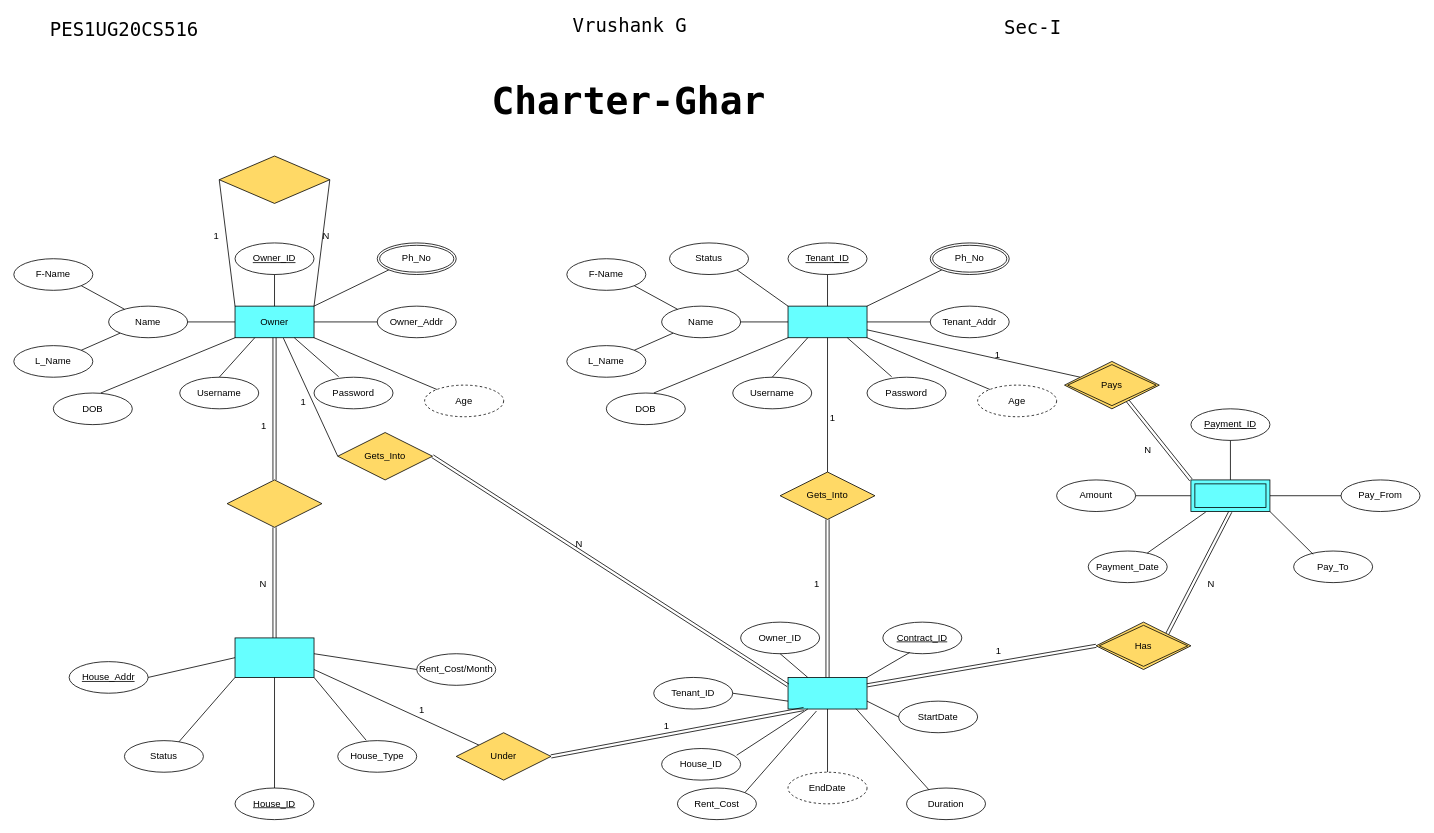
The diagram is 1434 pixels wide and 833 high, and some of its shapes have lost their labels. The centre of each missing label's shape, as x and y in pixels:
Agents: point 274,179
Contract: point 827,693
House: point 274,657
Owns: point 274,503
Payment: point 1230,495
Tenant: point 827,321
